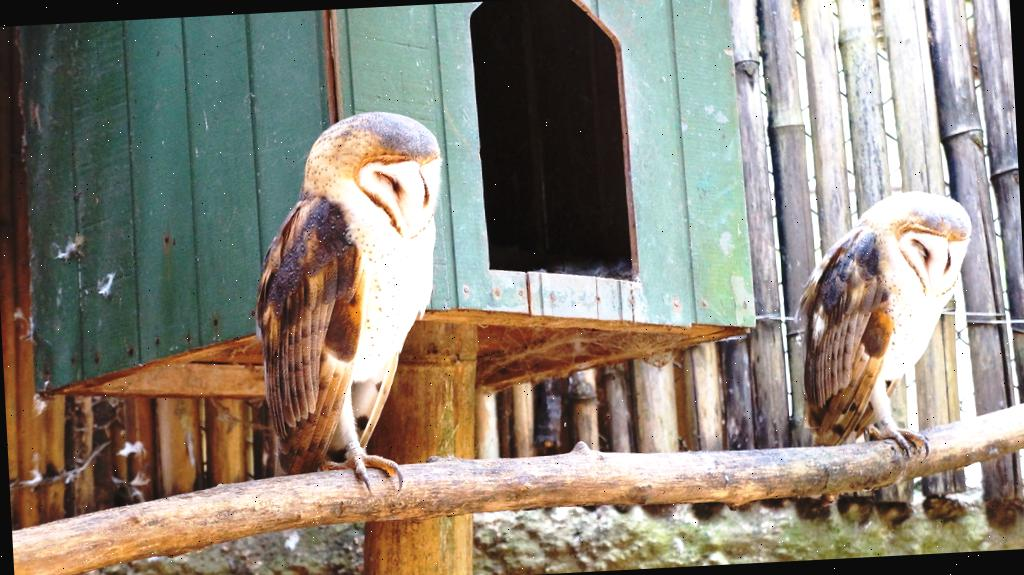Owl: (250, 103, 466, 501), (794, 184, 984, 473)
